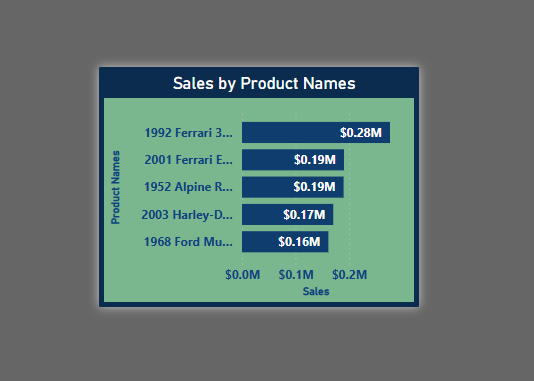

What the dashboard file says about the page in this screenshot:
{"tool":"powerbi","page":{"name":"Tooltips","canvas":[320,240],"ordinal":1},"visuals":[{"type":"barChart","title":"Sales by Product Names","fields":{"Y":["Sum(Order_Details.Sales)"],"Category":["Products.productName"]},"box":[0,0,320,240],"z":0}]}

Visuals, with their boxes on the page's 320x240 design canvas (x1, y1, x2, y2). These are canvas units, not pixel positions in the 534x381 screenshot, which may show the page scaled, cropped or inside an application window:
"Sales by Product Names" barChart: (x1=0, y1=0, x2=320, y2=240)
